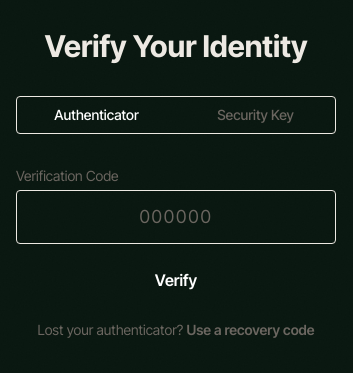
MFA Verify Page › can switch back to authenticator from recovery
The width and height of the screenshot is (353, 373).
Switch to recovery
Click the button "Use a recovery code" at (250, 330), box [186,320,315,340]
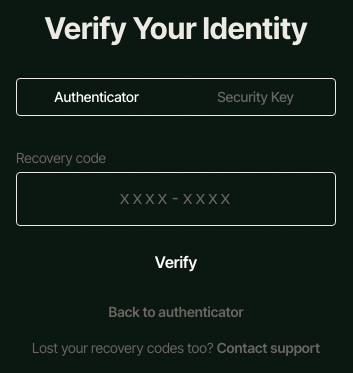
Check: the field labelled "Recovery code" is shown, box [16,172,336,226]
Switch back
Click the button "Back to authenticator" at (176, 312), box [108,302,244,322]
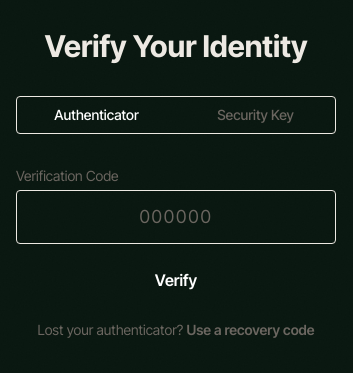
Check: the field labelled "Verification Code" is shown, box [16,190,336,244]
